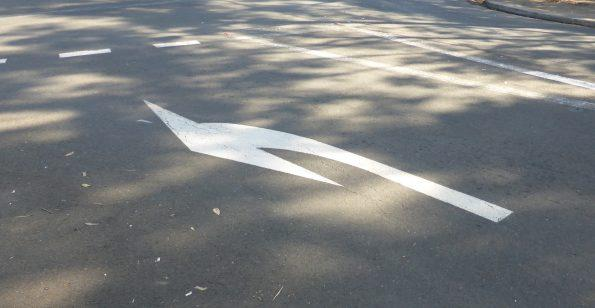faded_road_lines: (234, 34, 595, 111)
